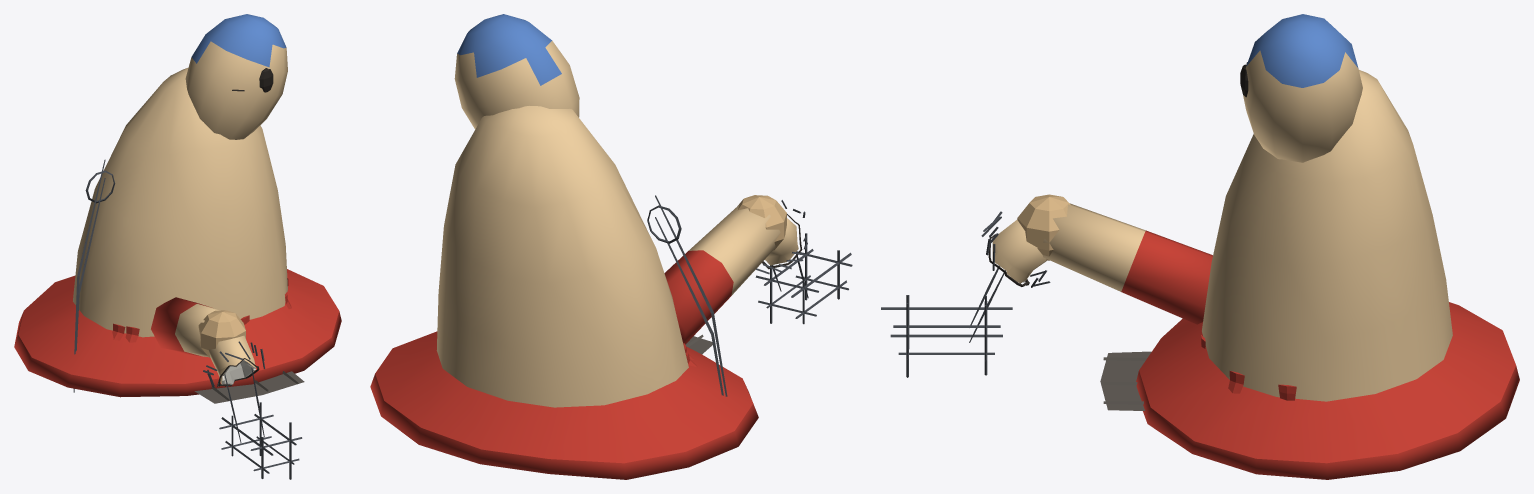
The model's file is Lump_4.fbx.
3 renders of one model, left to right at view 1: azimuth 30°, elevation 25°; view 2: azimuth 150°, elevation 25°; view 3: azimuth 270°, elevation 25°, orthographic. The views are drawn at different scales.
Parts seen in each view (by area): view 1: Body, Lines; view 2: Body, Lines; view 3: Body, Lines.
Boxes of the visible parts, x1,y1,x2,y2 form: Body: [14, 14, 341, 397]; Lines: [73, 89, 304, 479]; Body: [370, 14, 798, 479]; Lines: [647, 195, 852, 396]; Body: [992, 14, 1519, 479]; Lines: [881, 62, 1247, 410].
Size of the model in its own units: 0.7484 by 0.7788 by 1.06.
